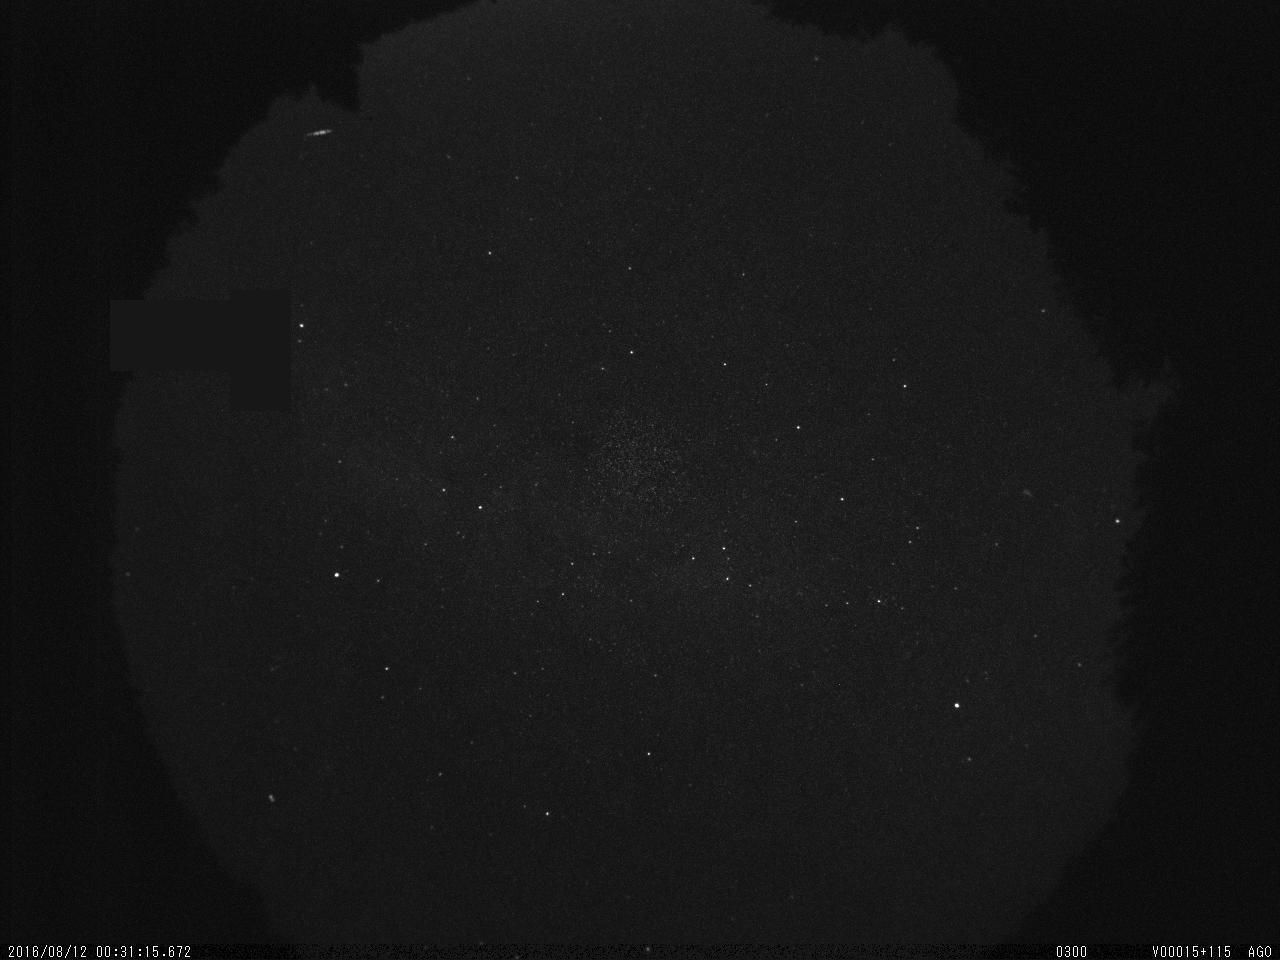meteor: (298, 123, 337, 145)
